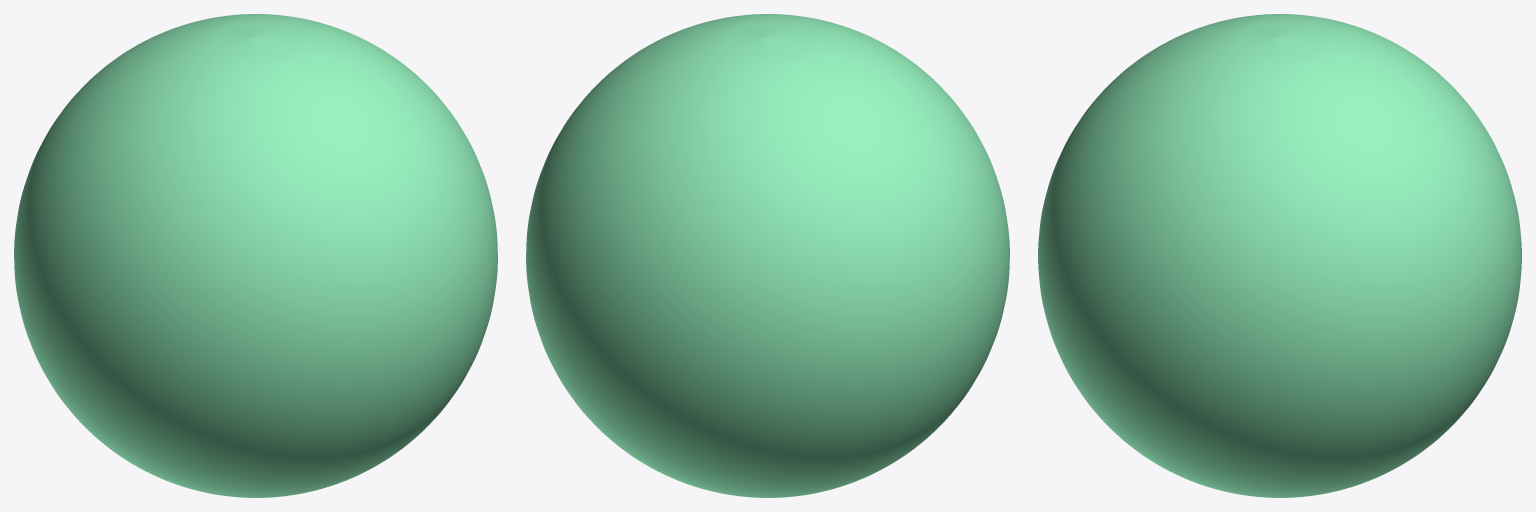
The model's file is sfaira.glb.
3 views of the same model, side by side, from view 1: azimuth 30°, elevation 25°; view 2: azimuth 150°, elevation 25°; view 3: azimuth 270°, elevation 25° (orthographic).
Visible parts, largest first — view 1: sfaira; view 2: sfaira; view 3: sfaira.
Boxes of the visible parts, <box> form: sfaira: <box>14,14,497,497</box>; sfaira: <box>526,14,1009,497</box>; sfaira: <box>1038,14,1521,497</box>.
Bounding box in the file's own units: 0.1963 × 0.1963 × 0.1963.
